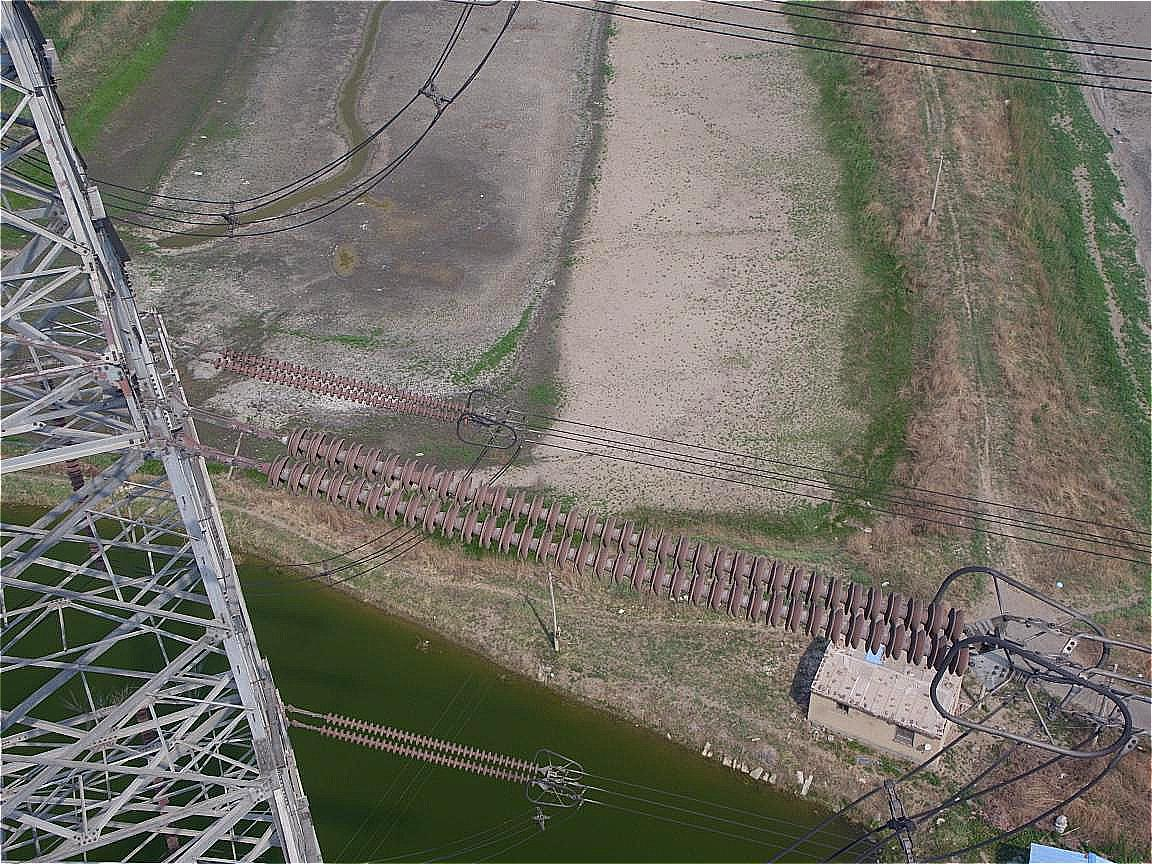insultor1: (208, 335, 483, 435)
insultor2: (223, 398, 987, 686)
